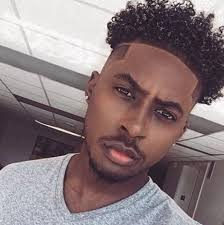black_male: (73, 4, 208, 198)
